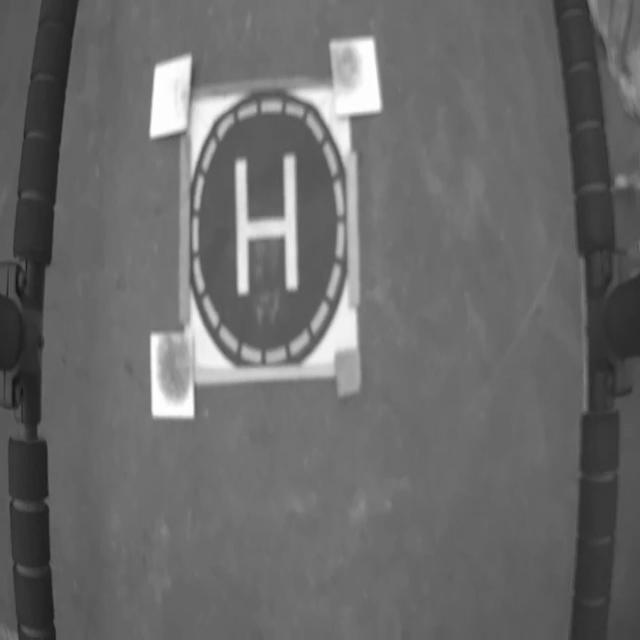Helipad: (234, 152, 300, 295)
